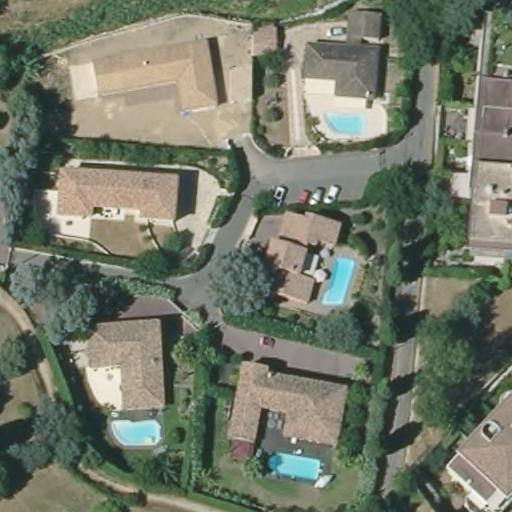pool: (320, 252, 356, 304), (266, 449, 324, 480), (110, 417, 162, 446), (323, 107, 368, 137)
